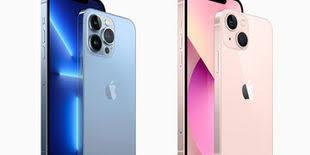Smartphone: (44, 0, 104, 155), (185, 1, 243, 155), (216, 18, 273, 155), (85, 19, 136, 155)
